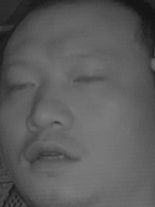blink: (74, 67, 105, 92), (9, 76, 38, 97)
mouth: (21, 136, 84, 176)
